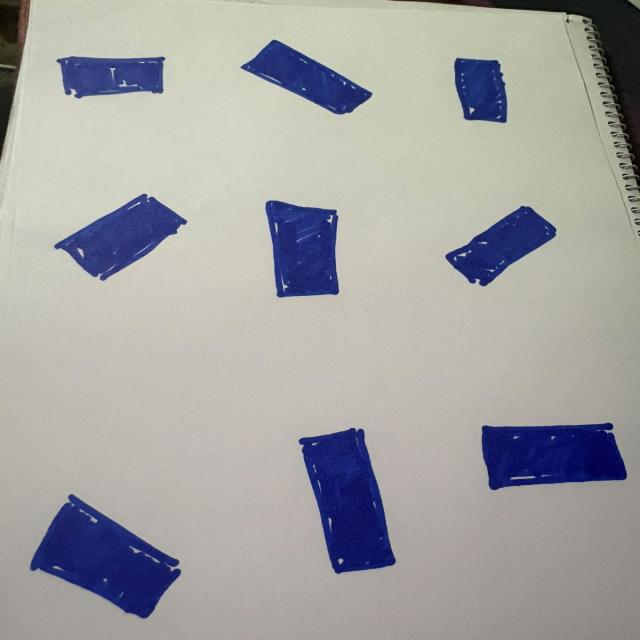Rectangle: (31, 495, 180, 618), (299, 428, 395, 573), (54, 194, 186, 280), (482, 423, 626, 490), (242, 40, 372, 114), (446, 206, 556, 286), (266, 201, 338, 297), (57, 56, 164, 98), (454, 58, 507, 122)
